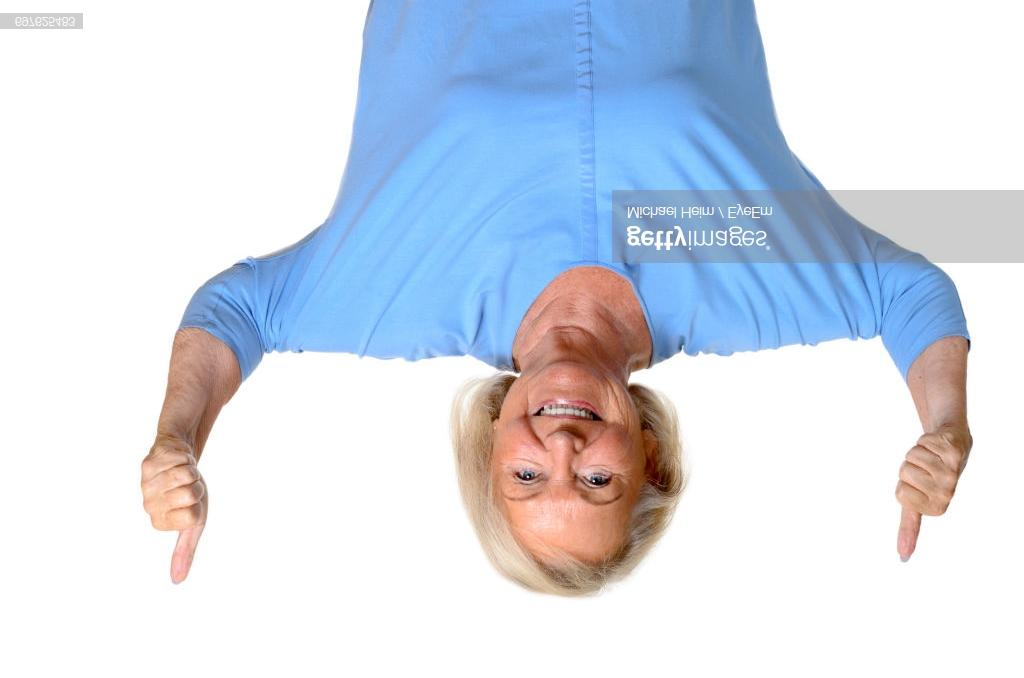thumbsdown: (140, 446, 205, 585), (895, 432, 963, 563)
